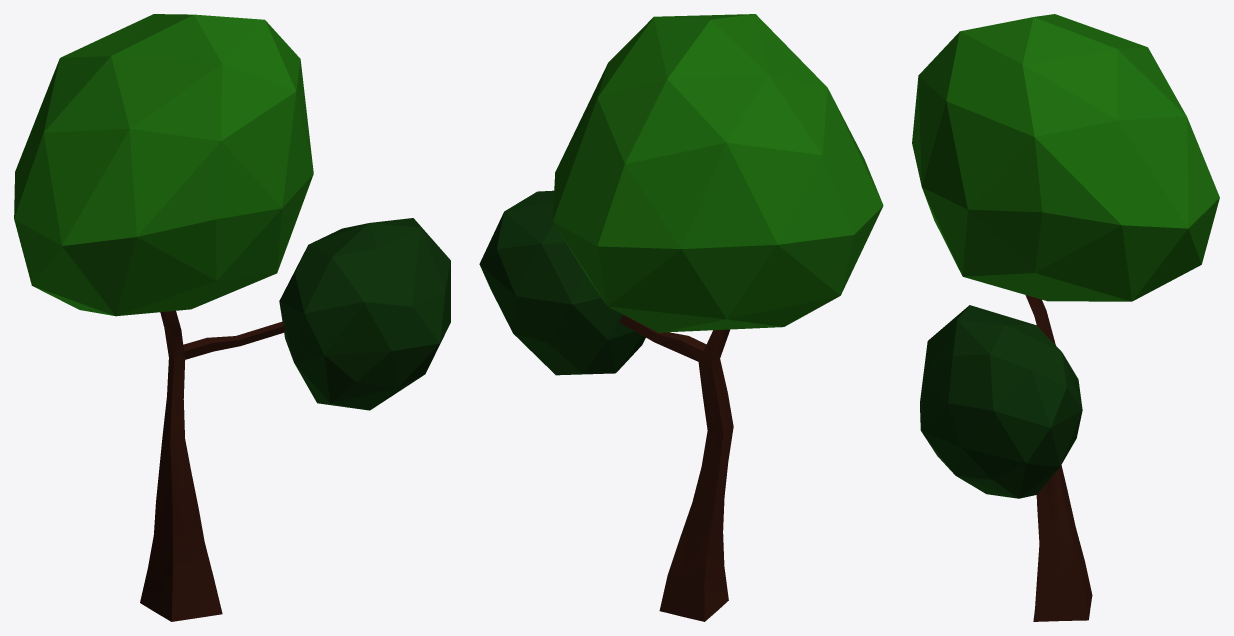
Rendered from ArbolLOD1.FBX.
3 renders of one model, left to right at view 1: azimuth 30°, elevation 25°; view 2: azimuth 150°, elevation 25°; view 3: azimuth 270°, elevation 25°, orthographic. The views are drawn at different scales.
Parts seen in each view (by area): view 1: GeoSphere001, GeoSphere002, Box005; view 2: GeoSphere001, GeoSphere002, Box005; view 3: GeoSphere001, GeoSphere002, Box005.
Boxes of the visible parts, x1,y1,x2,y2 form: GeoSphere001: (14,14,313,316); GeoSphere002: (279,218,450,410); Box005: (140,311,285,621); GeoSphere001: (552,14,883,332); GeoSphere002: (479,190,645,375); Box005: (619,314,733,621); GeoSphere001: (912,14,1219,301); GeoSphere002: (920,305,1082,498); Box005: (1025,295,1092,621).
Size of the model in its own units: 57.36 by 82.81 by 39.08.
